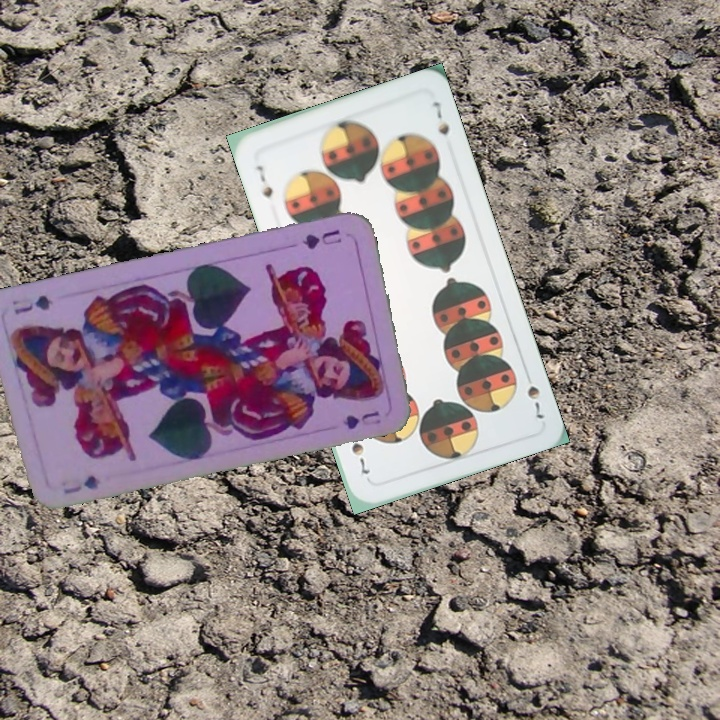GU: (298, 226, 345, 252), (59, 471, 103, 497)
S7: (521, 366, 547, 422), (252, 161, 276, 200)
